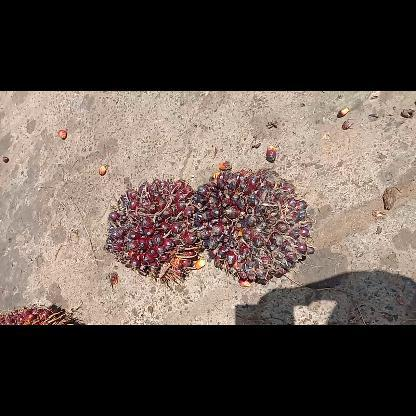Kurang masak: (192, 163, 316, 285), (101, 176, 202, 286)
